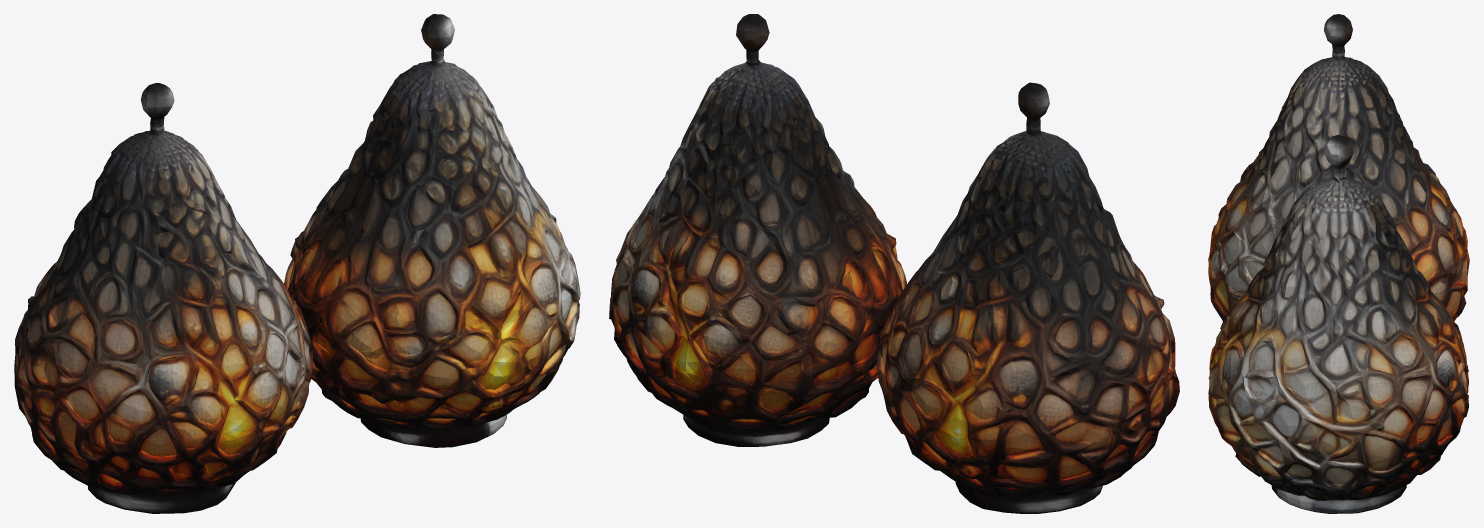
File: seed-shell-salt-and-pepper-shakers-3d.jpeg.glb
3 views of the same model, side by side, from view 1: azimuth 30°, elevation 25°; view 2: azimuth 150°, elevation 25°; view 3: azimuth 270°, elevation 25° (orthographic). The views are drawn at different scales.
Parts seen in each view (by area): view 1: world; view 2: world; view 3: world.
Part boxes in pixels (<box>): world: <box>14,14,580,513</box>; world: <box>609,14,1179,513</box>; world: <box>1208,14,1469,513</box>.
Size of the model in its own units: 0.9963 by 0.7278 by 0.4889.
Materials: 1 (1 with a texture image).
